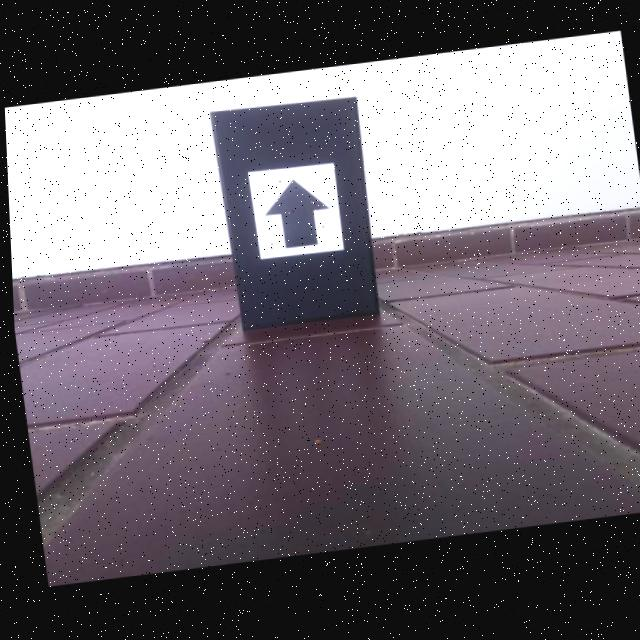UP: (261, 181, 329, 251)
